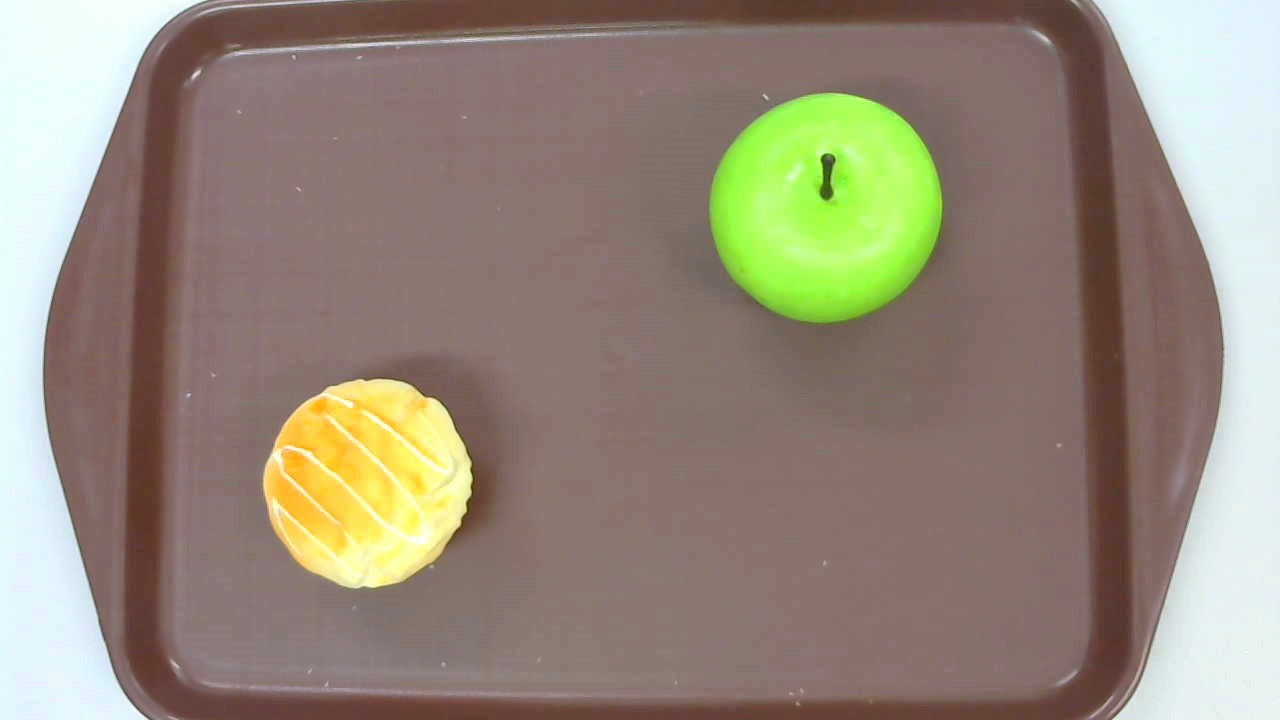cupcake: (263, 378, 473, 589)
green apple: (708, 93, 942, 322)
